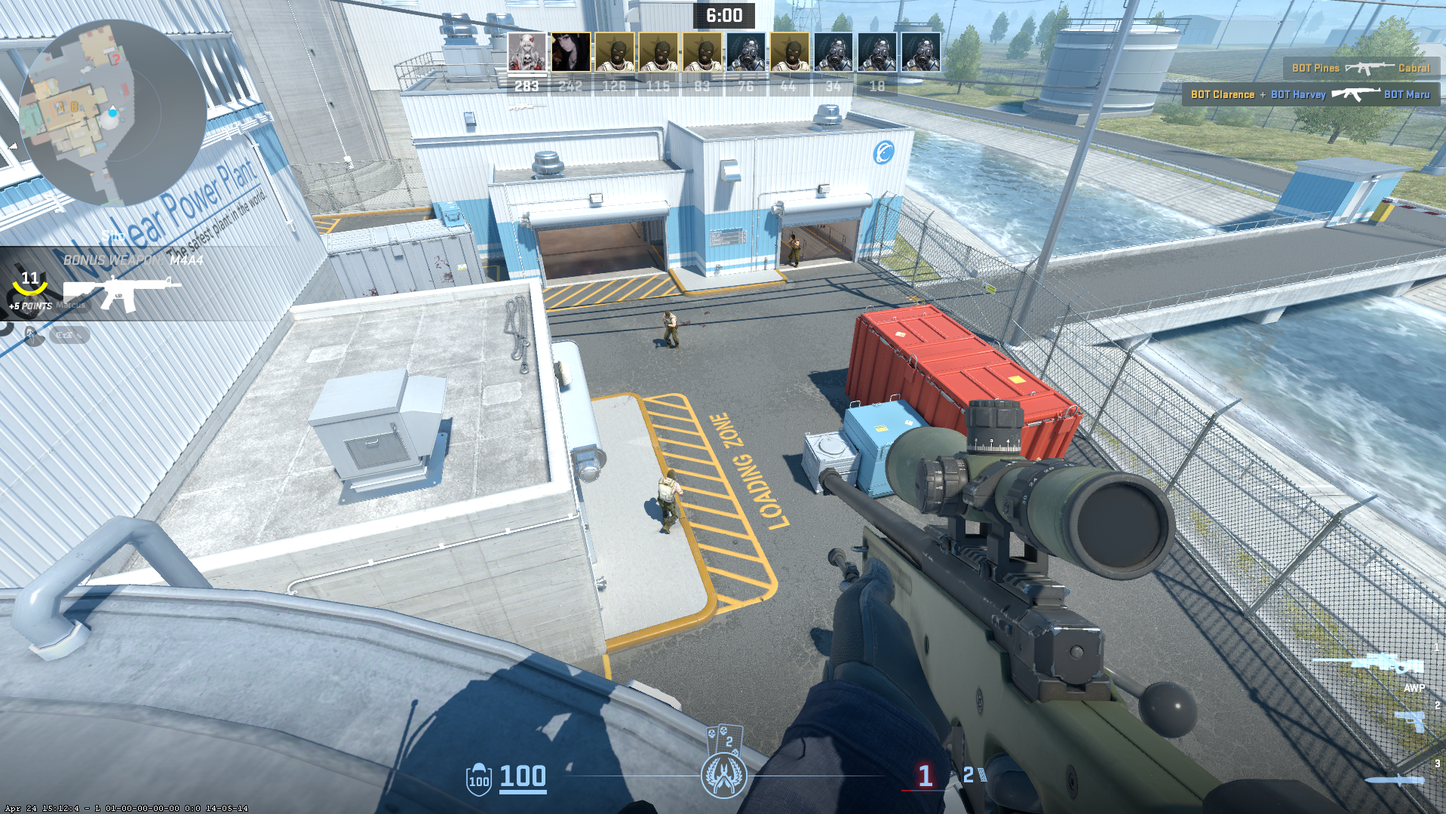T: (657, 469, 683, 534), (662, 310, 679, 349), (788, 234, 800, 268)
